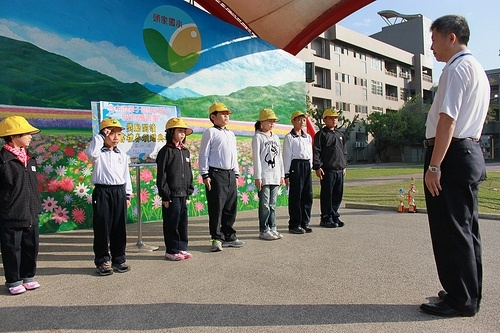People: (420, 15, 489, 316), (0, 116, 41, 294), (85, 118, 131, 274), (198, 102, 243, 250), (156, 118, 193, 260), (252, 108, 283, 239), (313, 110, 346, 226), (282, 111, 312, 233)
helmet: (0, 116, 40, 136), (165, 118, 192, 132), (100, 118, 124, 132), (208, 102, 231, 114), (258, 108, 278, 120), (323, 108, 338, 118)
